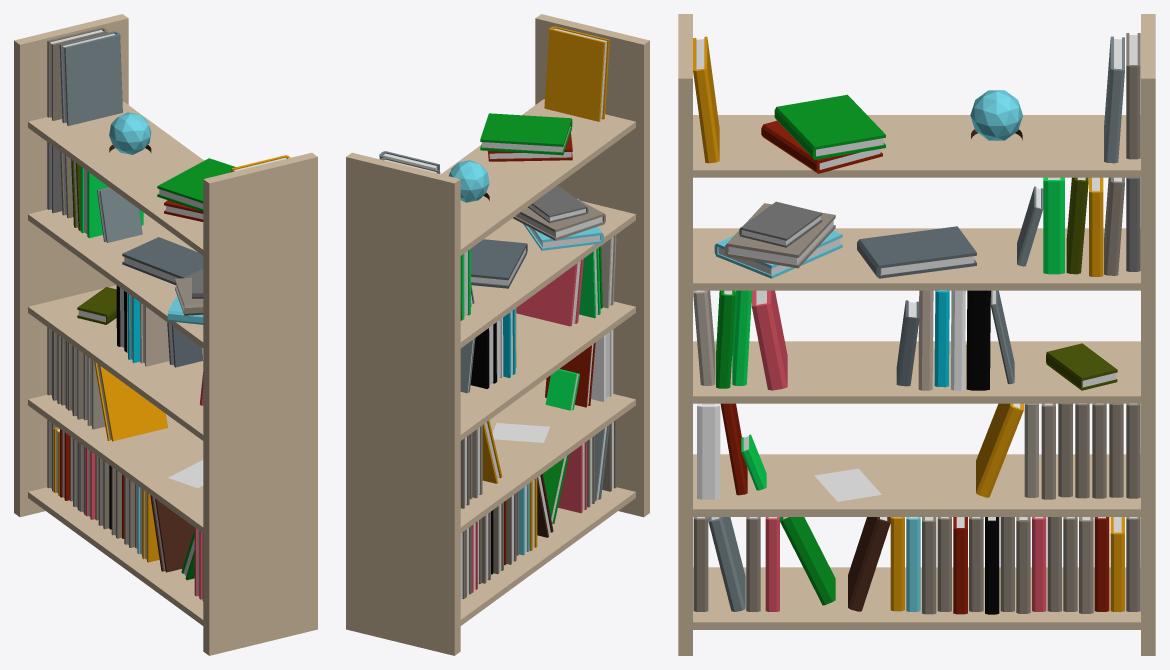
File: book_shelf.glb
The picture shows the model from 3 angles, left to right: view 1: azimuth 30°, elevation 25°; view 2: azimuth 150°, elevation 25°; view 3: azimuth 270°, elevation 25°; orthographic projection. The views are drawn at different scales.
Parts seen in each view (by area): view 1: Cube_019; view 2: Cube_019; view 3: Cube_019.
Boxes of the visible parts, box(x1,y1,x2,y2) form: Cube_019: box(14, 14, 317, 655); Cube_019: box(346, 14, 649, 655); Cube_019: box(678, 14, 1155, 655).
Size of the model in its own units: 0.4948 by 2.06 by 1.54.
